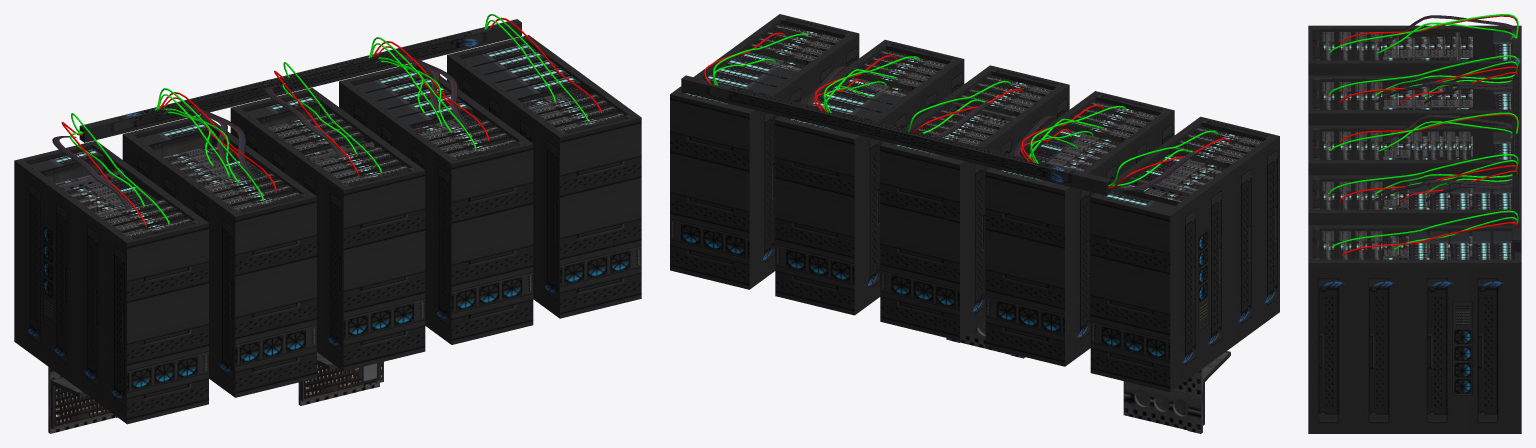
Rendered from SuperComputer.glb.
3 renders of one model, left to right at view 1: azimuth 30°, elevation 25°; view 2: azimuth 150°, elevation 25°; view 3: azimuth 270°, elevation 25°, orthographic. The views are drawn at different scales.
Parts seen in each view (by area): view 1: Object.1; view 2: Object.1; view 3: Object.1.
Boxes of the visible parts, <box> form: Object.1: <box>14,14,641,433</box>; Object.1: <box>670,14,1279,433</box>; Object.1: <box>1308,14,1521,433</box>.
Size of the model in its own units: 1700375 by 912861 by 645800.
1 material, 1 textured.
